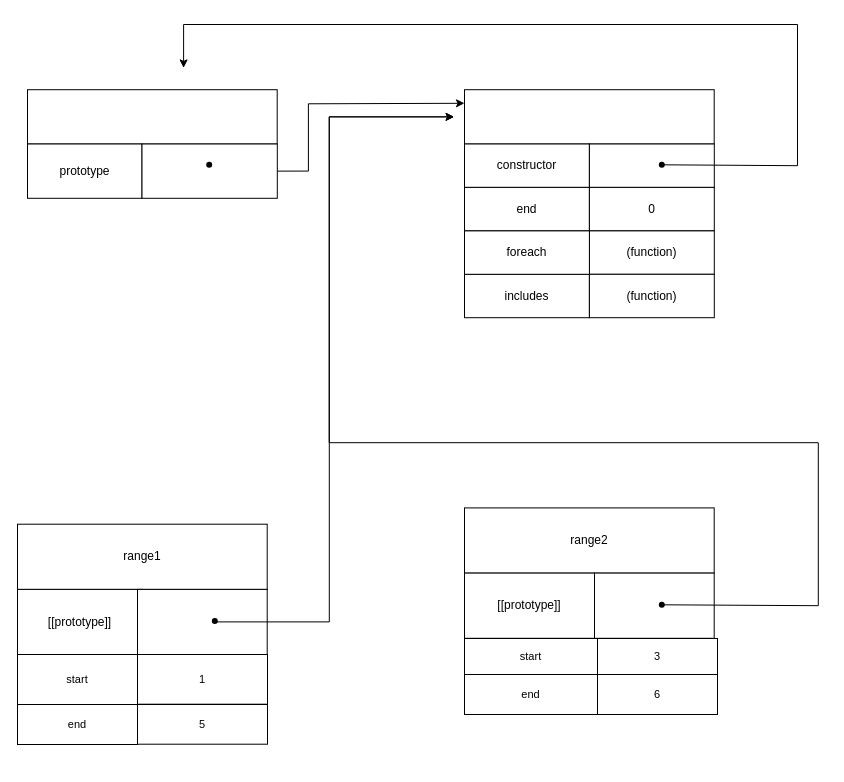
The diagram is 844 pixels wide and 782 high, and some of its shapes have lost their labels. Each missing label, with the box of its shape:
Range Prototype: (464, 89, 714, 144)
Range(构造函数）: (26, 89, 277, 144)
